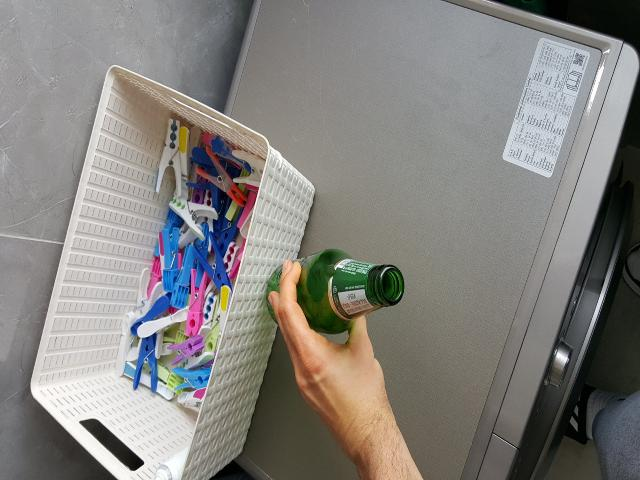beer: (266, 249, 404, 333)
